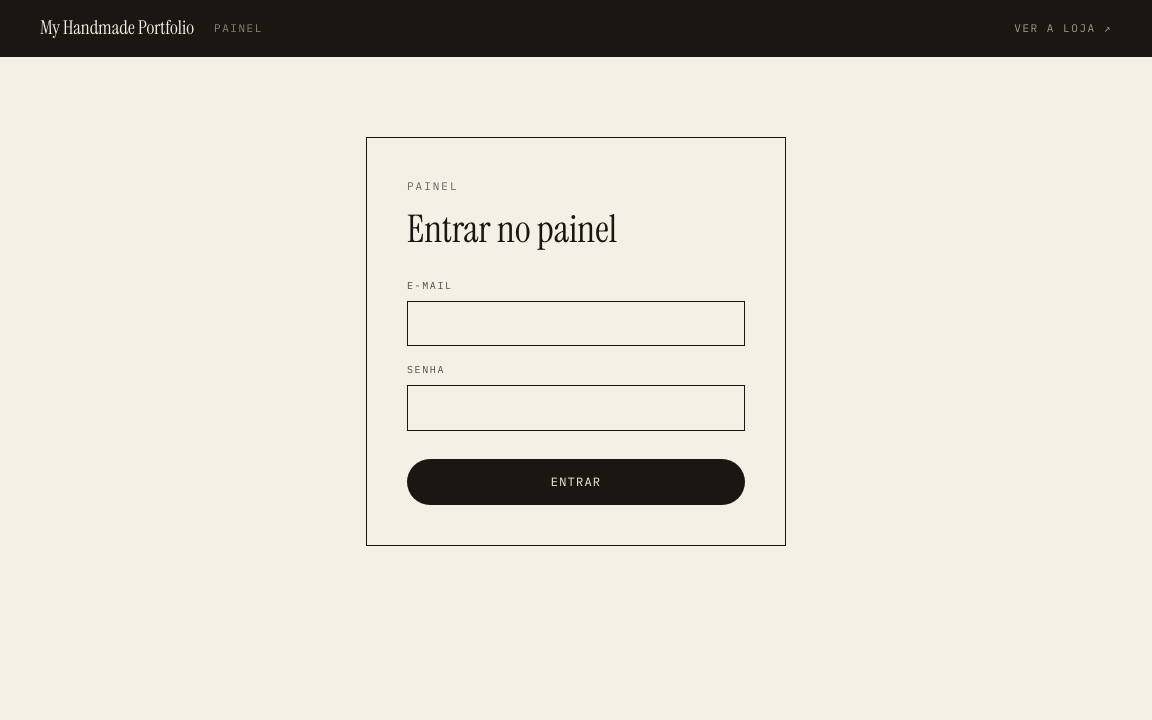
Test case: AdminShellContainer · the session guard › keeps the session when a 401 is about the credentials rather than the token
In the field labelled "E-mail": x=576, y=324 [407,301,745,346], type "augusto@example.com"
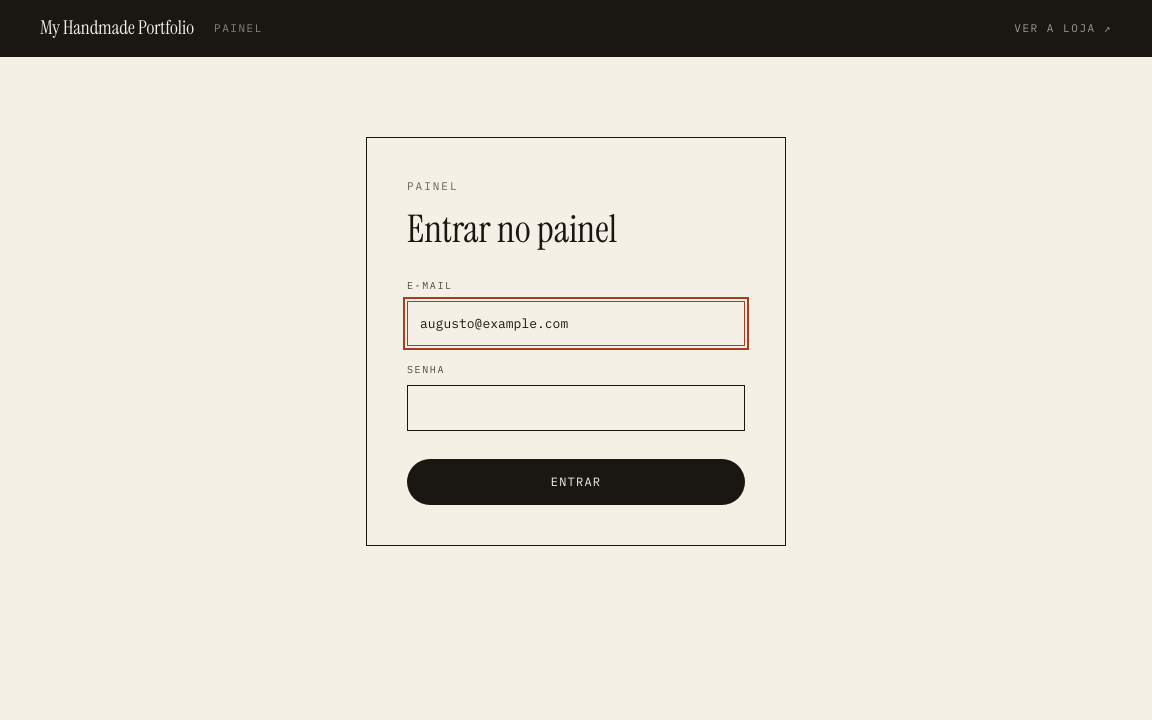
In the password field labelled "Senha": x=576, y=408 [407,385,745,431], type "errada"
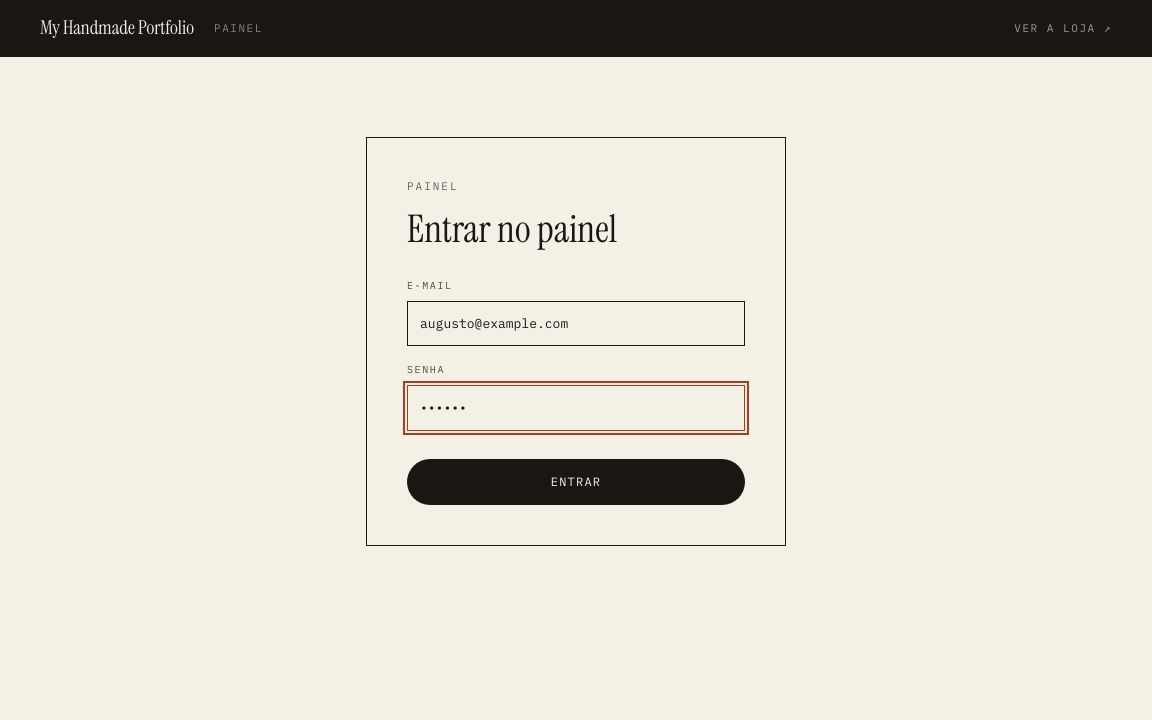
Click the button "Entrar": x=576, y=482 [407,459,745,505]
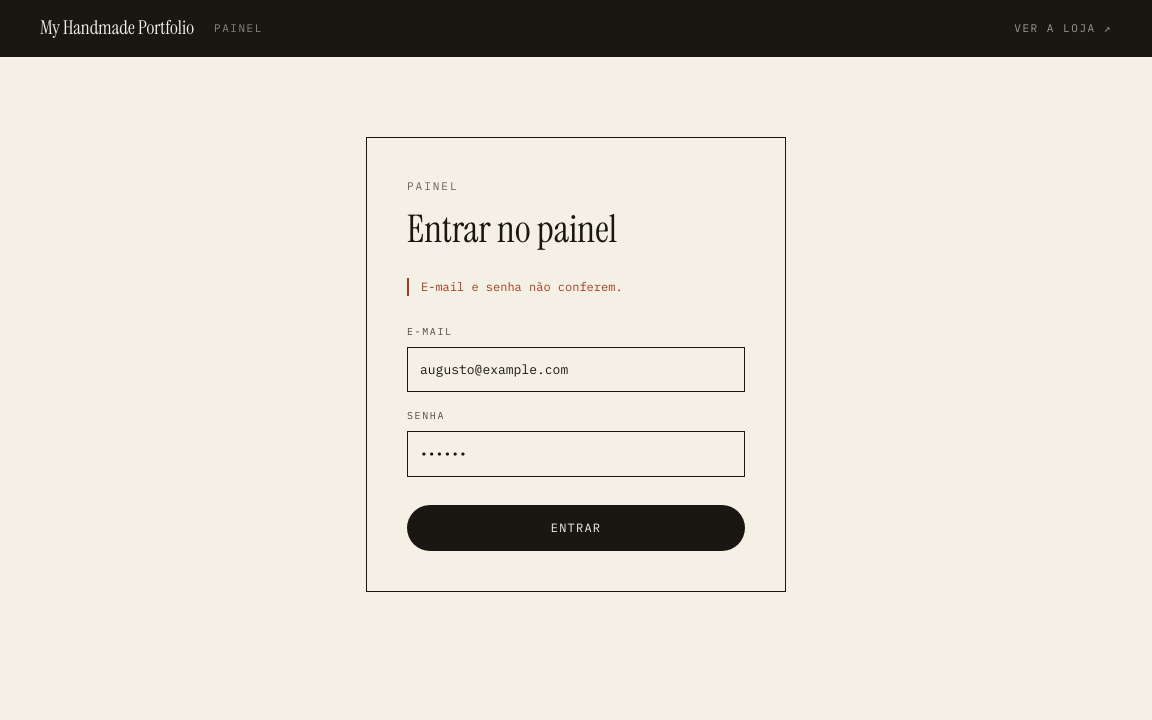
Now the message reads "E-mail e senha não conferem.", box [421,279,623,294]
